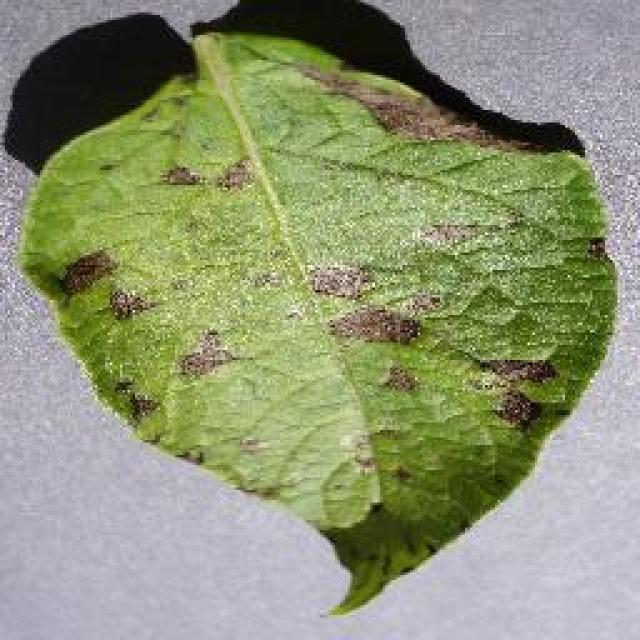Potato___Early_blight: (5, 32, 621, 619)
